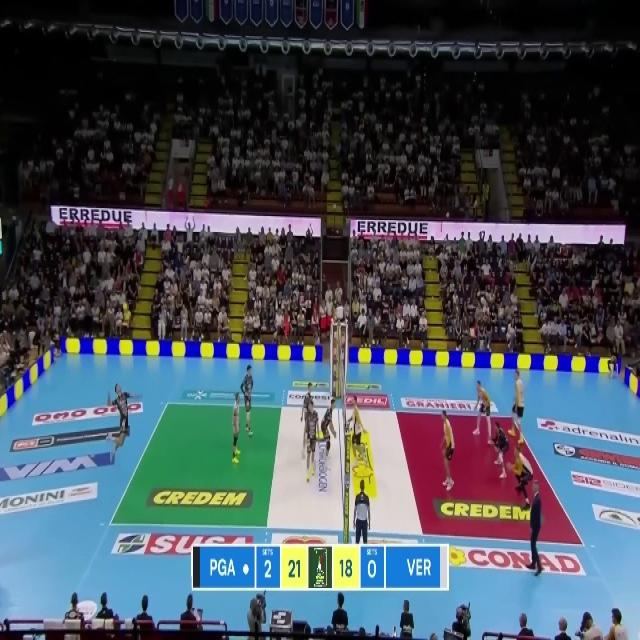volleyball court: (107, 402, 588, 548)
